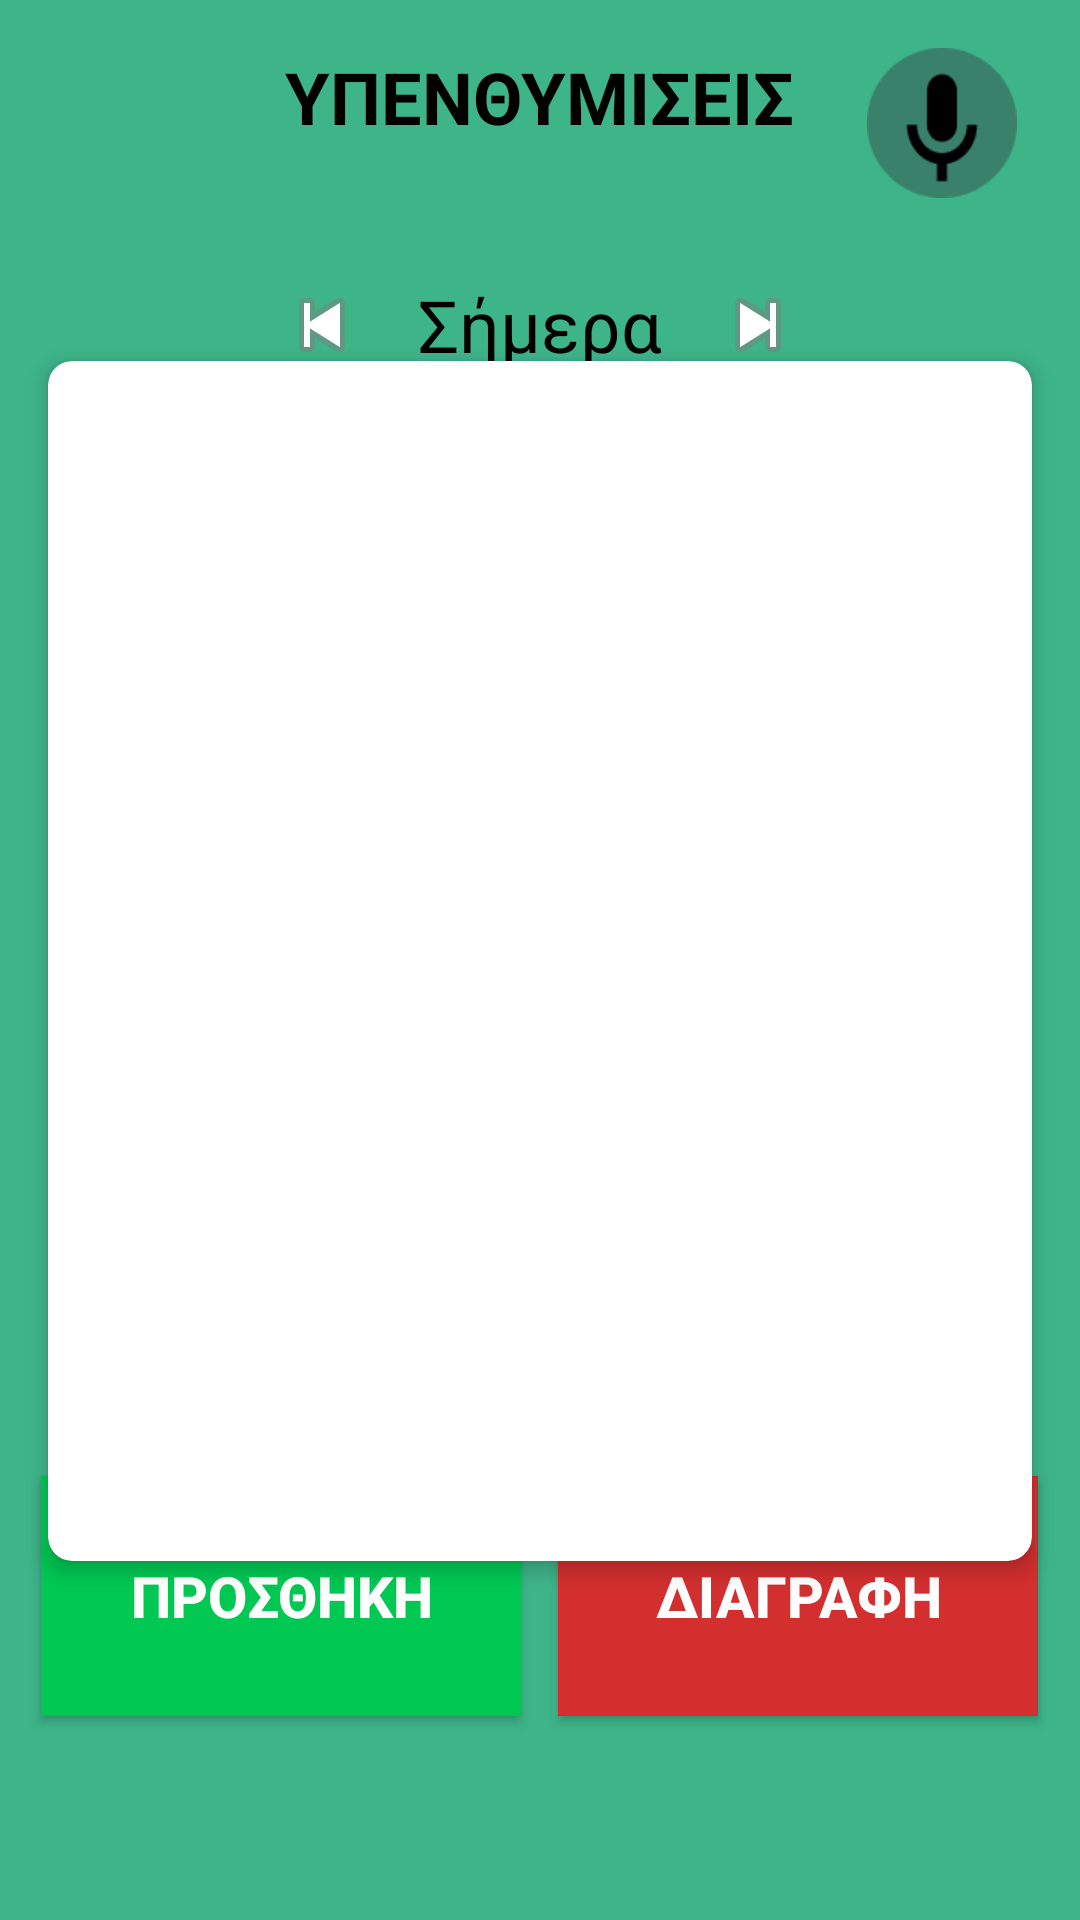

Named icons in this screenshot (1080*1920) and their bounding boxes, (x1, y1, x2, y2):
Μικρόφωνο: (867, 48, 1017, 198)
